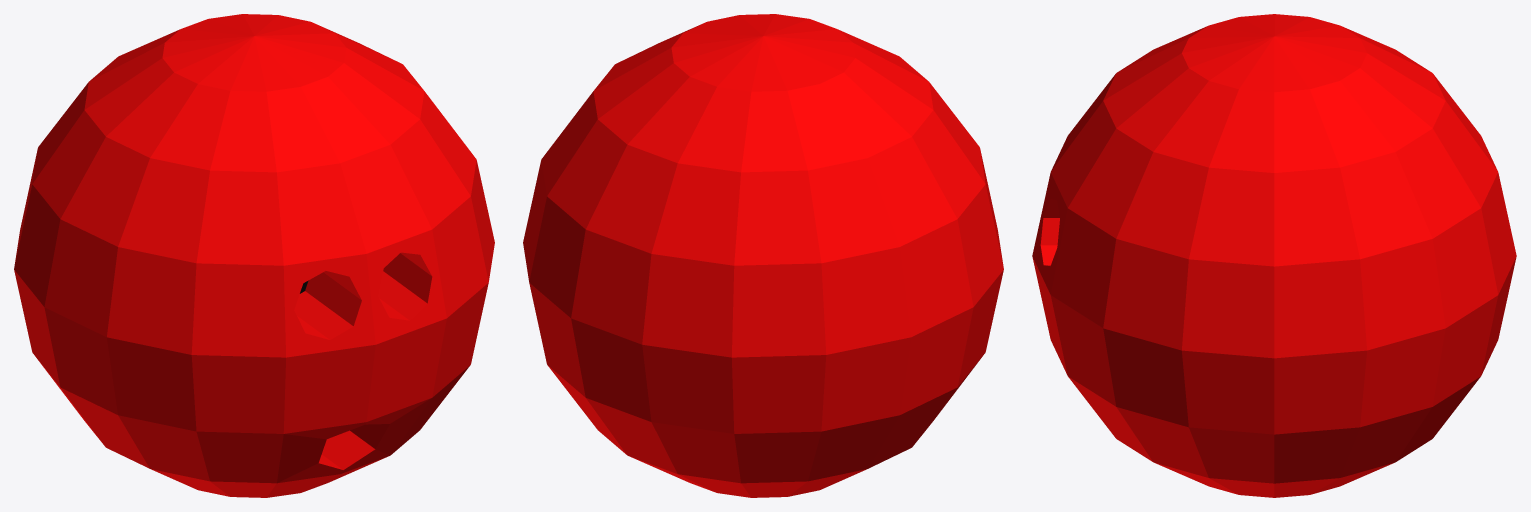
File: bowling_ball.fbx
3 renders of one model, left to right at view 1: azimuth 30°, elevation 25°; view 2: azimuth 150°, elevation 25°; view 3: azimuth 270°, elevation 25°, orthographic.
Parts seen in each view (by area): view 1: BowlingBall; view 2: BowlingBall; view 3: BowlingBall.
Part boxes in pixels (x1,y1,x2,y2): BowlingBall: [14, 14, 494, 497]; BowlingBall: [523, 14, 1003, 497]; BowlingBall: [1032, 14, 1516, 497].
Bounding box in the file's own units: 200 × 200 × 200.
